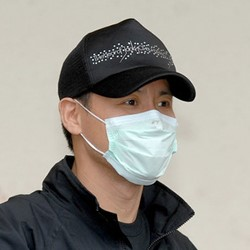mask: (69, 91, 180, 191)
